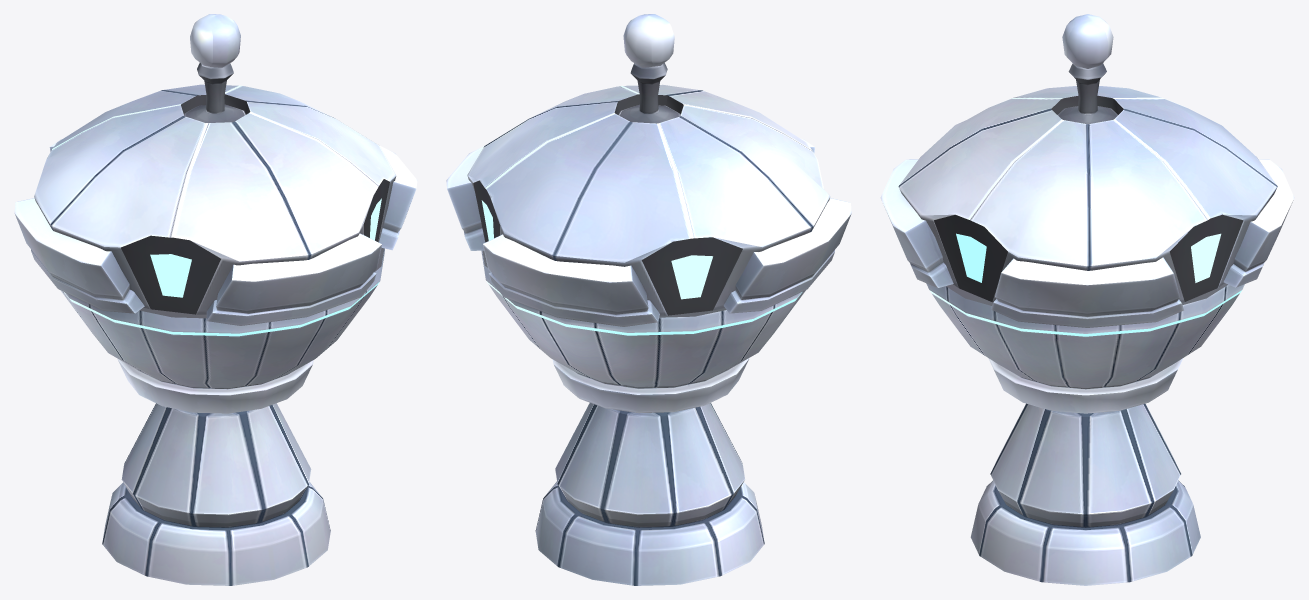
The model's file is obj_transmitter01.gltf.
3 views of the same model, side by side, from view 1: azimuth 30°, elevation 25°; view 2: azimuth 150°, elevation 25°; view 3: azimuth 270°, elevation 25° (orthographic).
Parts seen in each view (by area): view 1: obj_transmitter01; view 2: obj_transmitter01; view 3: obj_transmitter01.
Part boxes in pixels (bbox=[...]): obj_transmitter01: bbox=[14, 14, 417, 585]; obj_transmitter01: bbox=[446, 14, 851, 585]; obj_transmitter01: bbox=[880, 14, 1294, 585].
Size of what is drawn, in the model's own units: 1.38 by 1.92 by 1.38.
2 materials, 1 textured.
